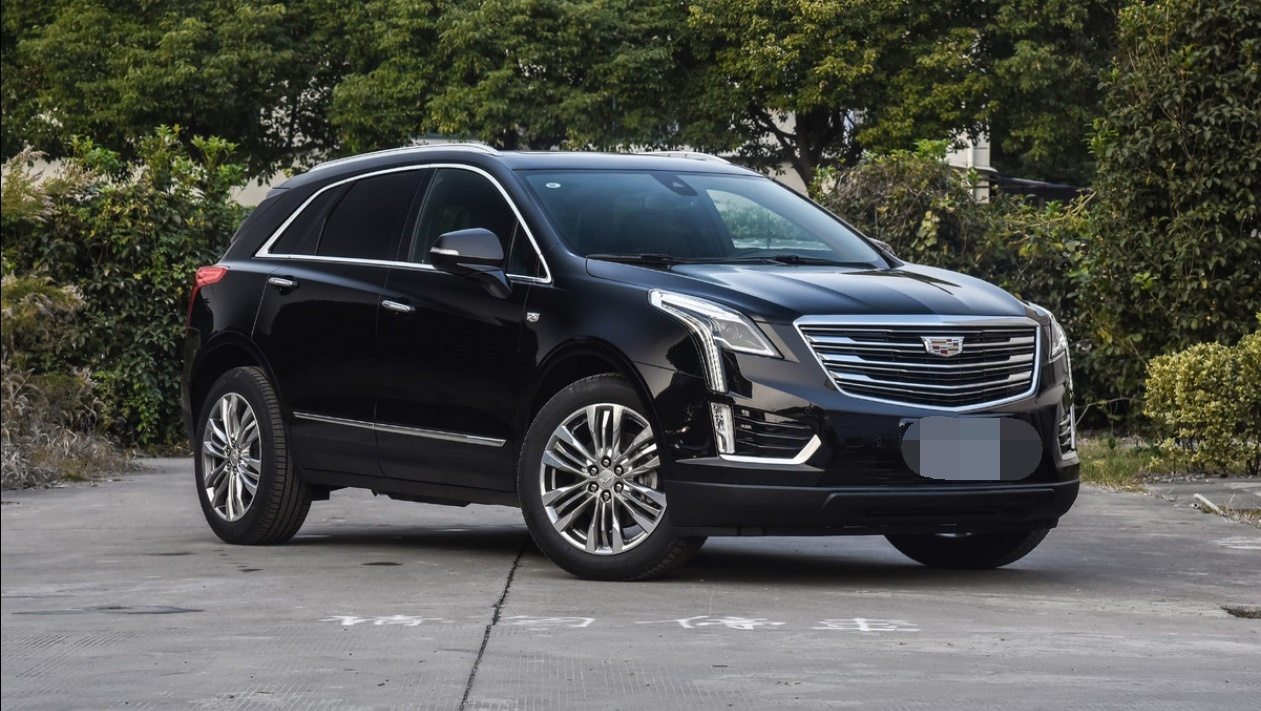SUV: (165, 122, 1111, 592)
